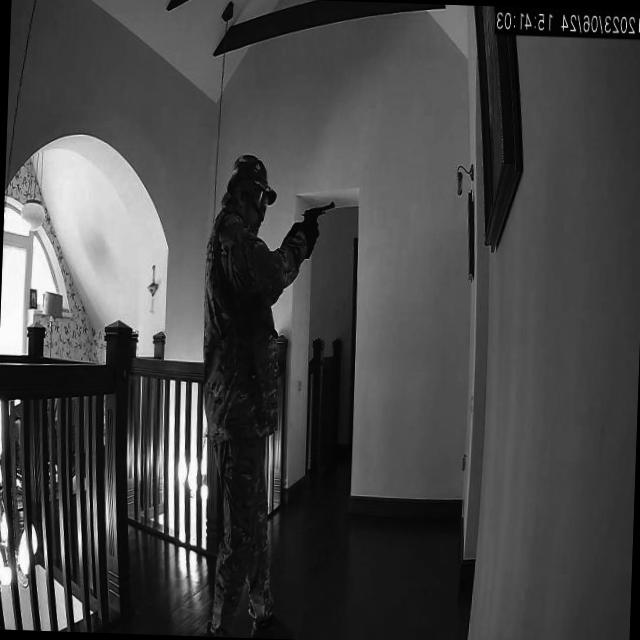gun: (302, 196, 336, 237)
person with a gun: (195, 149, 342, 637)
